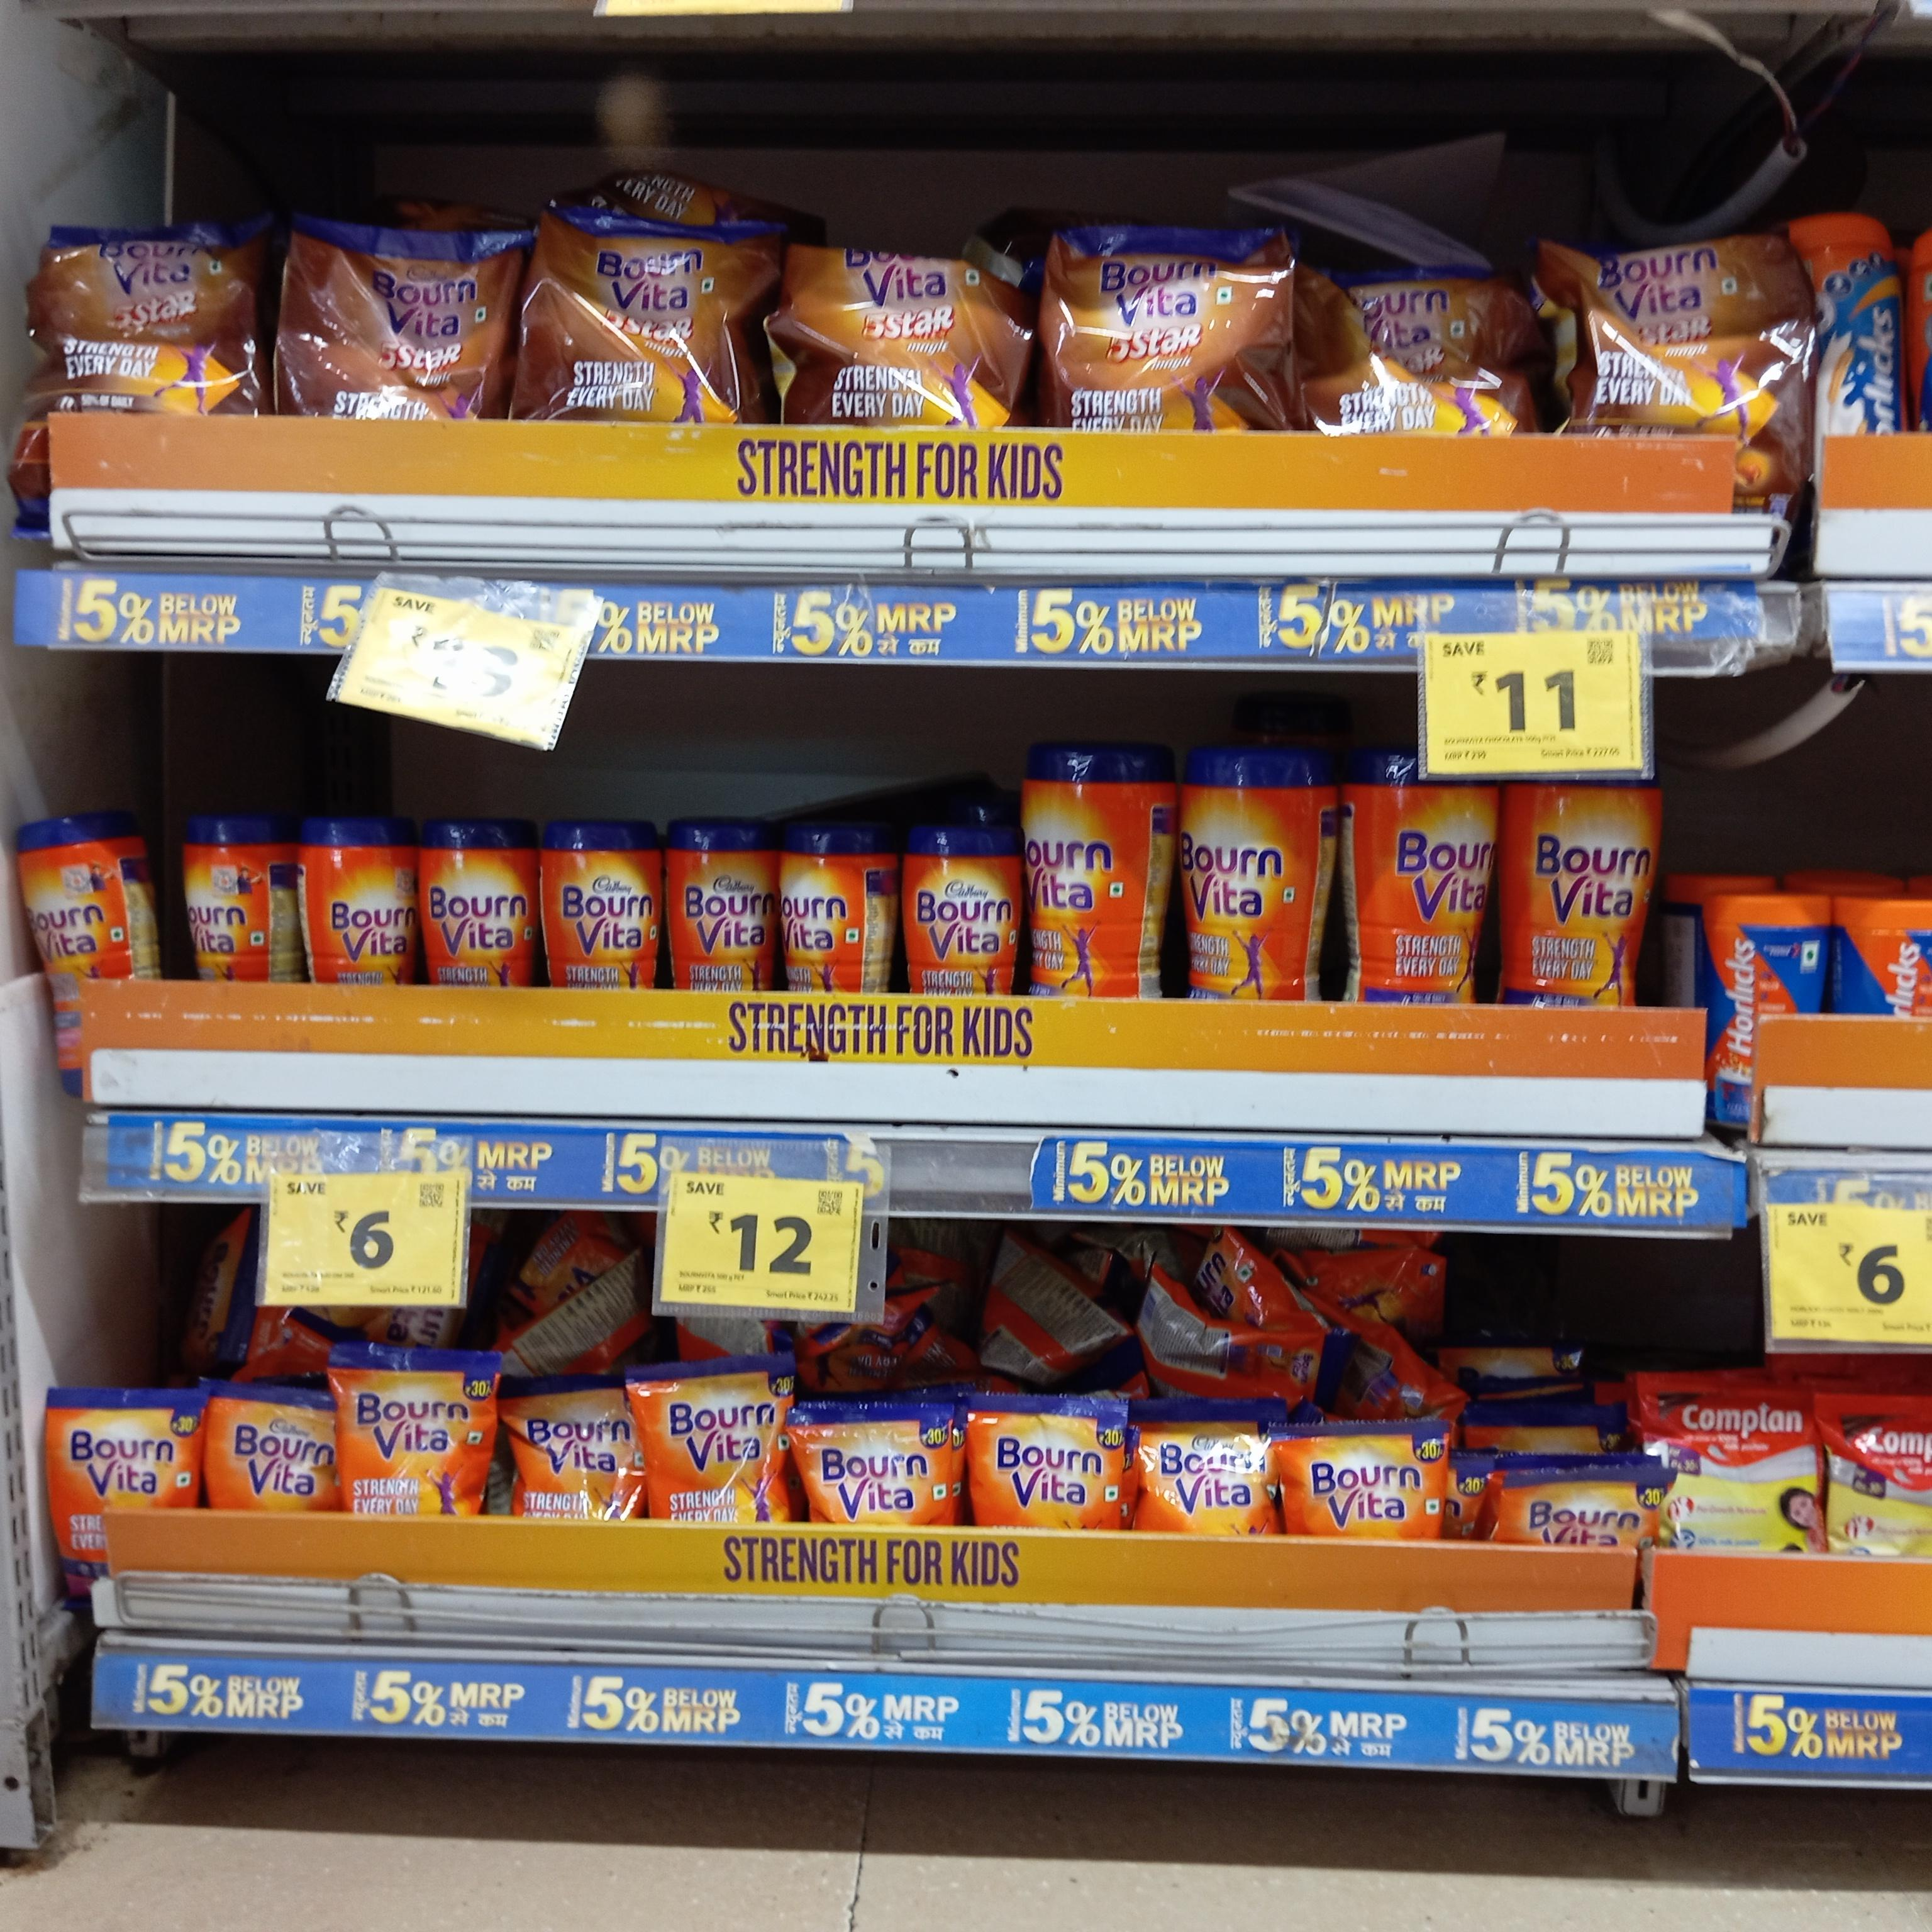BOURN_VITA_200_G_JAR: (19, 821, 115, 1099), (899, 824, 1017, 1003), (545, 821, 651, 991), (425, 828, 527, 994), (306, 819, 407, 985), (775, 817, 863, 1000), (674, 817, 764, 987), (180, 816, 258, 989)
BOURN_VITA_500_G_JAR: (1180, 754, 1307, 1008), (1024, 748, 1146, 1014), (1350, 763, 1481, 1008), (1513, 777, 1647, 1001)
BOURN_VITA_75_G_POUCH: (51, 1391, 196, 1583), (333, 1346, 488, 1513), (642, 1362, 787, 1529), (794, 1398, 952, 1525), (499, 1375, 621, 1534), (970, 1405, 1123, 1527), (1141, 1405, 1276, 1537), (1300, 1426, 1454, 1534)
BOURN_VITA_FIVE_STAR_MAGIC_500_G_POUCH: (1044, 212, 1270, 441), (529, 207, 741, 423), (1566, 225, 1783, 430), (37, 225, 260, 412), (287, 219, 492, 418), (777, 237, 987, 425), (1307, 260, 1507, 439)
HORLICK_CLASSIC_MALT_200_G_JAR: (1709, 892, 1806, 1138), (1836, 913, 1932, 1023)
